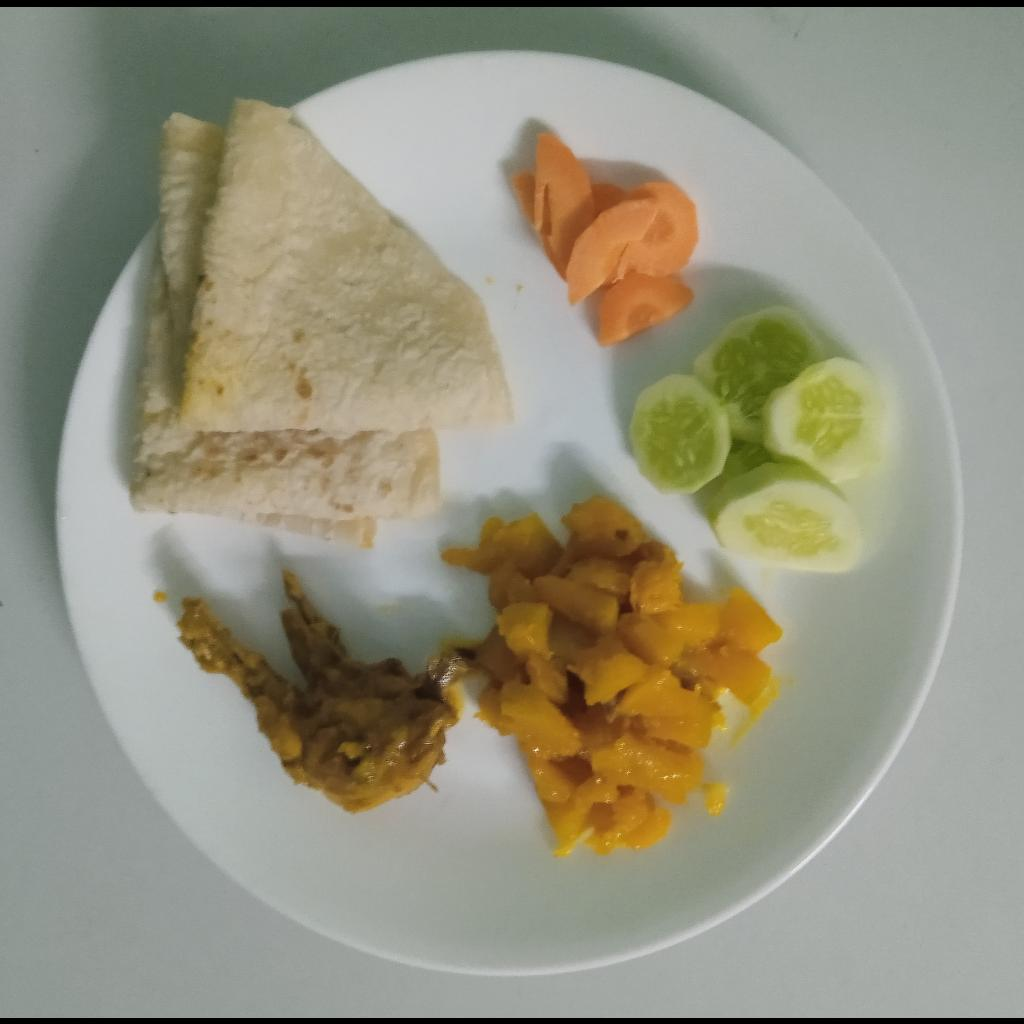carrot: (506, 125, 702, 352)
chicken: (175, 560, 480, 813)
cucumber: (633, 301, 898, 572)
kumra-vaji: (438, 496, 786, 860)
ruti: (132, 96, 519, 551)
